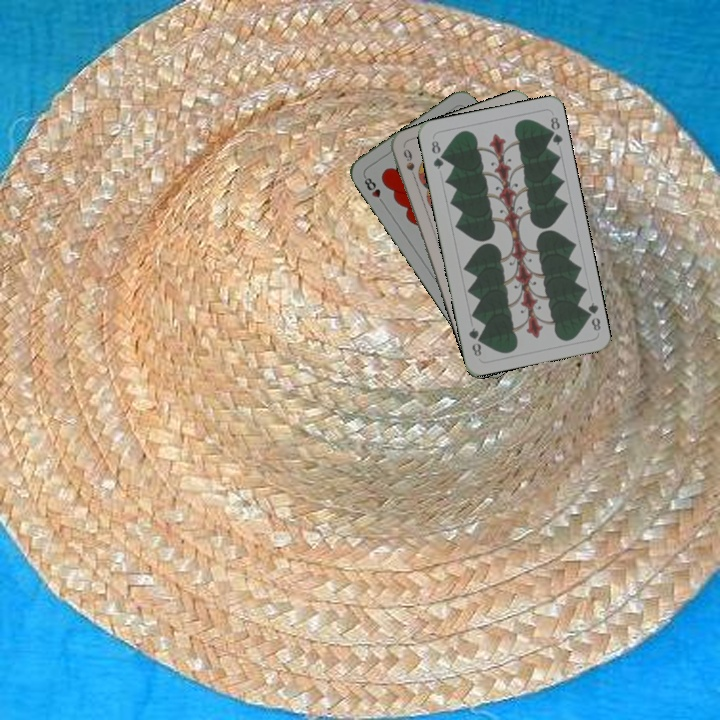G8: (580, 298, 603, 333), (427, 136, 446, 172)
H8: (360, 172, 387, 207)
S9: (399, 144, 420, 184)
